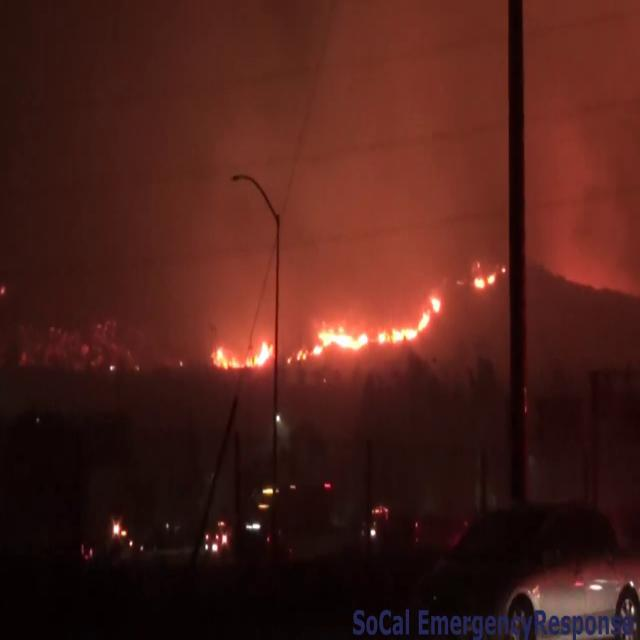Fire: (308, 296, 442, 361), (210, 326, 274, 379)
Smoke: (97, 1, 638, 347)
